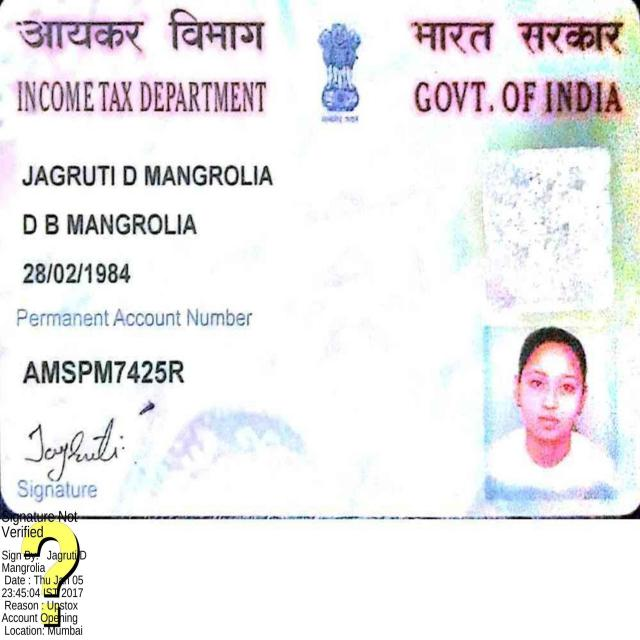pan_card: (5, 6, 634, 513)
